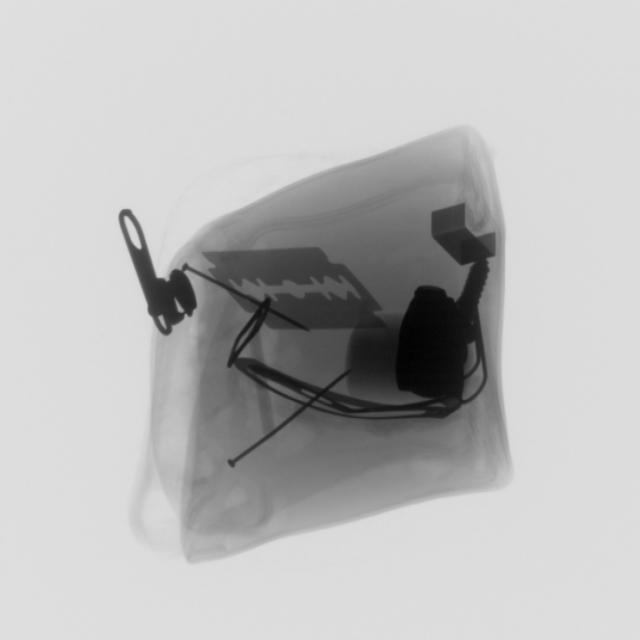GUN: (203, 253, 384, 346)
